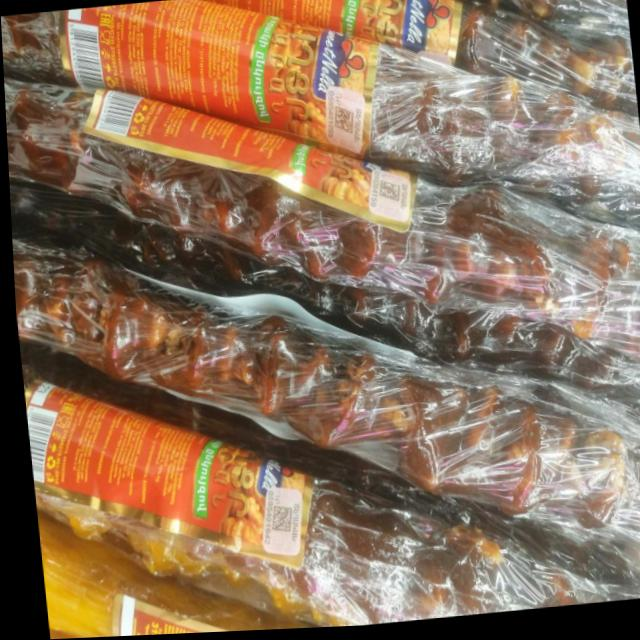datamatrix: (263, 507, 289, 538), (331, 109, 356, 141), (376, 181, 401, 208)
